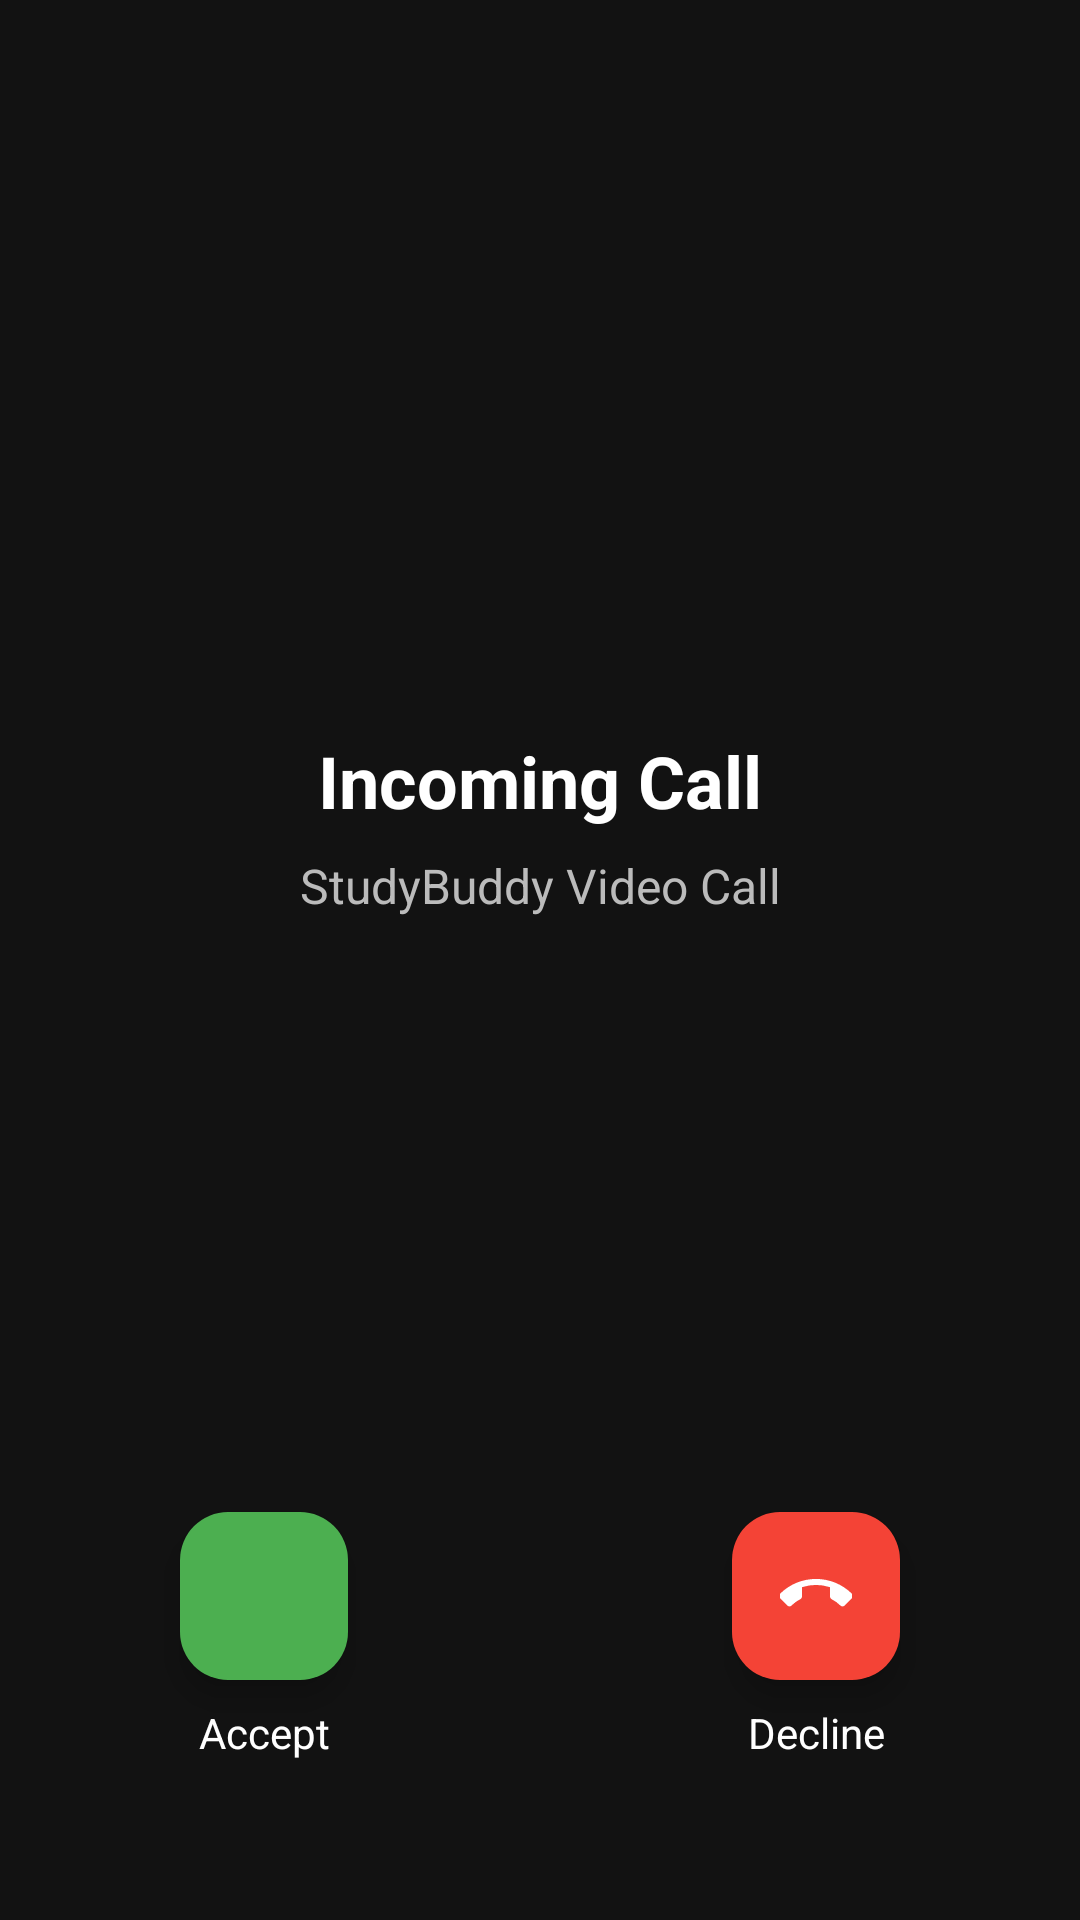

Where to tap for icons on this 1080 × 1920 app screen, as (x=x, y=y):
end call insta: (x=816, y=1596)
